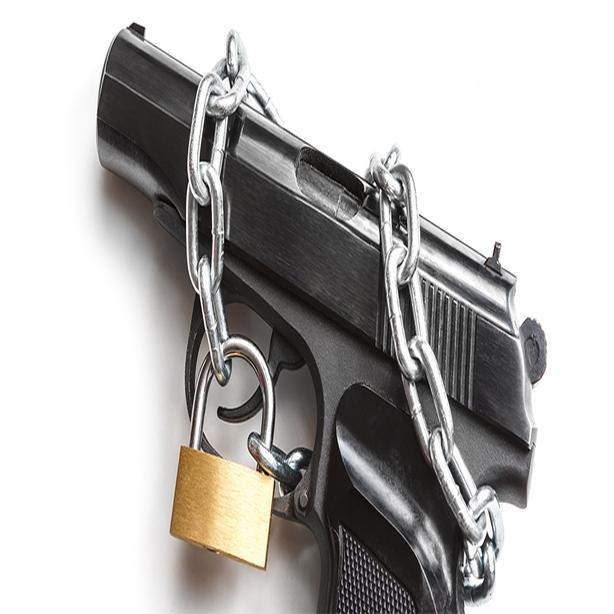Firearm: (80, 8, 599, 614)
